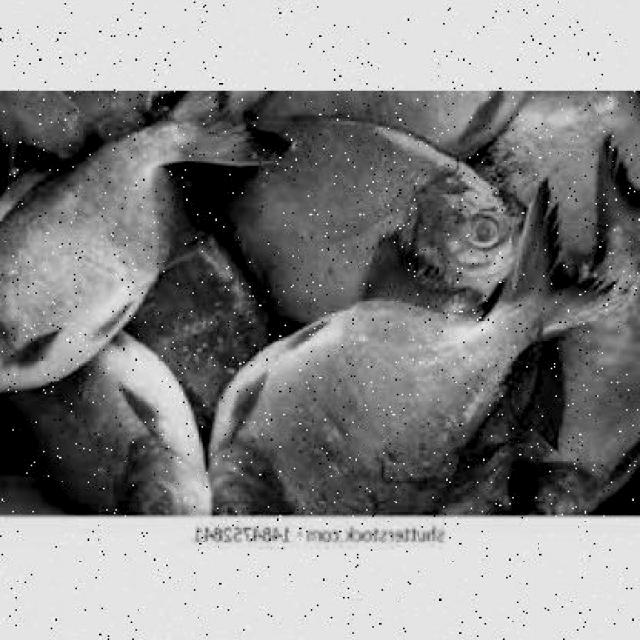ikan-pacu: (213, 292, 569, 511), (1, 96, 232, 378), (235, 121, 522, 310)
